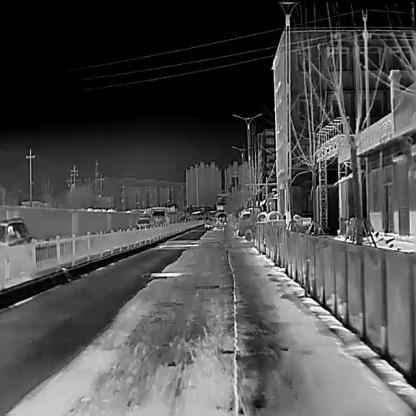car: (0, 216, 35, 285), (151, 206, 169, 226), (135, 215, 151, 230), (212, 218, 224, 230), (204, 218, 213, 226)
truck: (238, 206, 310, 240)
